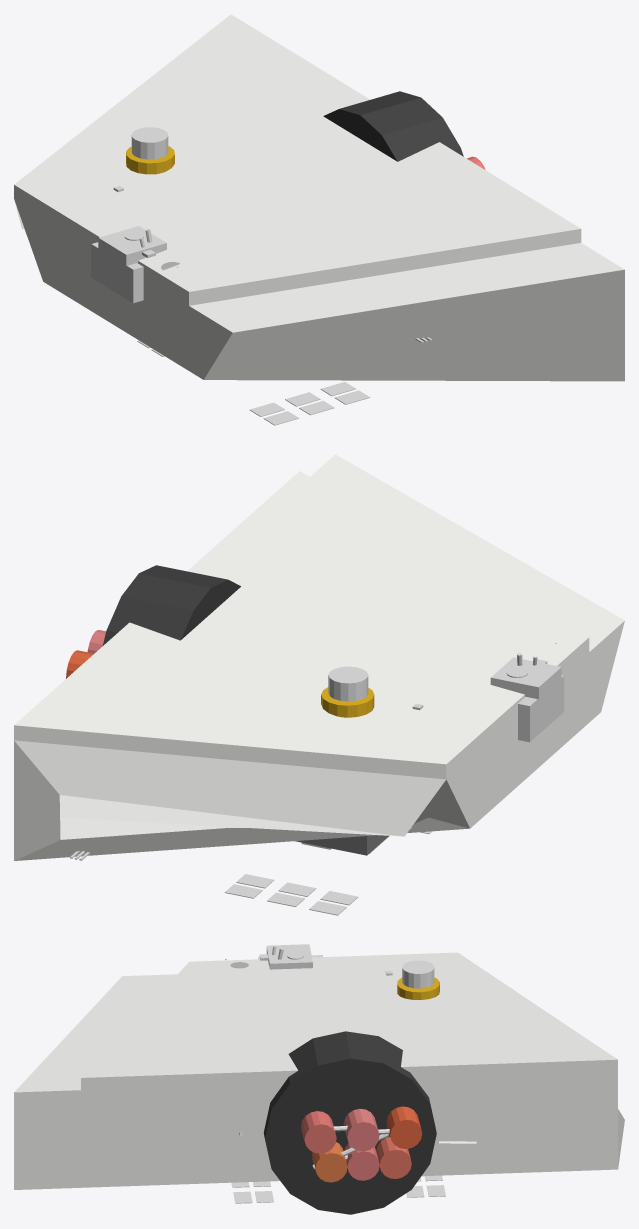
The model's file is starship.glb.
The picture shows the model from 3 angles, top to bottom: view 1: azimuth 30°, elevation 25°; view 2: azimuth 150°, elevation 25°; view 3: azimuth 270°, elevation 25°; orthographic projection. The views are drawn at different scales.
Parts seen in each view (by area): view 1: Spacecraft_Hull, Engine_Housing, Cockpit_Base, Cockpit_Window, Turret_Rotation, Turret_Base; view 2: Spacecraft_Hull, Engine_Housing, Cockpit_Base, Cockpit_Window, Turret_Rotation, Cargo_Interior, Turret_Base; view 3: Spacecraft_Hull, Engine_Housing, Engine_Nozzle_2, Engine_Nozzle_0, Engine_Nozzle_1, Engine_Nozzle_3, Engine_Nozzle_5, Cockpit_Window, Engine_Nozzle_4, Turret_Rotation, Turret_Base.
Part boxes in pixels (x1,y1,x2,y2): Spacecraft_Hull: (14, 14, 624, 381); Engine_Housing: (323, 91, 463, 161); Cockpit_Base: (91, 242, 180, 303); Cockpit_Window: (98, 226, 166, 265); Turret_Rotation: (131, 127, 168, 159); Turret_Base: (126, 146, 174, 174); Spacecraft_Hull: (14, 454, 624, 860); Engine_Housing: (102, 565, 240, 645); Cockpit_Base: (518, 675, 564, 742); Cockpit_Window: (490, 657, 561, 699); Turret_Rotation: (328, 666, 368, 701); Cargo_Interior: (295, 835, 388, 855); Turret_Base: (321, 687, 374, 717); Spacecraft_Hull: (14, 952, 624, 1189); Engine_Housing: (263, 1031, 436, 1214); Engine_Nozzle_2: (301, 1111, 336, 1153); Engine_Nozzle_0: (386, 1106, 422, 1148); Engine_Nozzle_1: (343, 1108, 379, 1151); Engine_Nozzle_3: (376, 1137, 411, 1178); Engine_Nozzle_5: (312, 1142, 347, 1182); Cockpit_Window: (266, 944, 312, 969); Engine_Nozzle_4: (344, 1143, 379, 1180); Turret_Rotation: (402, 960, 434, 988); Turret_Base: (397, 977, 439, 999).
Bounding box in the file's own units: 4.26 × 2.35 × 6.67.
